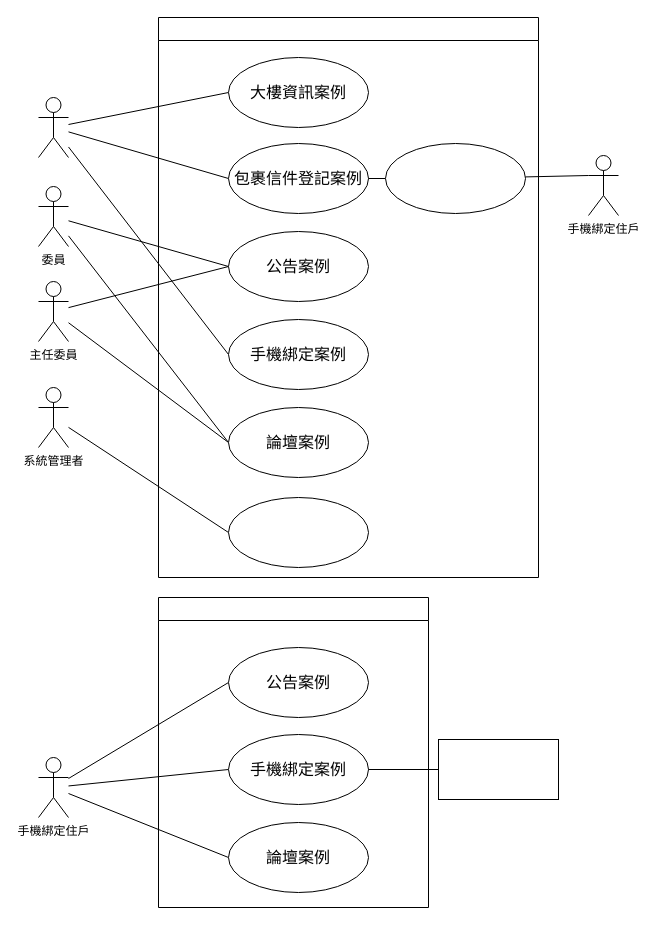
The diagram is 656 pixels wide and 925 high, and some of its shapes have lost their labels. The box of each missing label's shape, as (x1, y1, x2, y2) in pixels:
<<actor>> 手機Qrcode掃描功能: (438, 738, 558, 800)
App部分: (158, 596, 428, 908)
推播案例: (384, 142, 526, 214)
社區案例: (228, 496, 368, 568)
警衛: (38, 96, 68, 158)
電腦部分: (158, 16, 538, 578)
